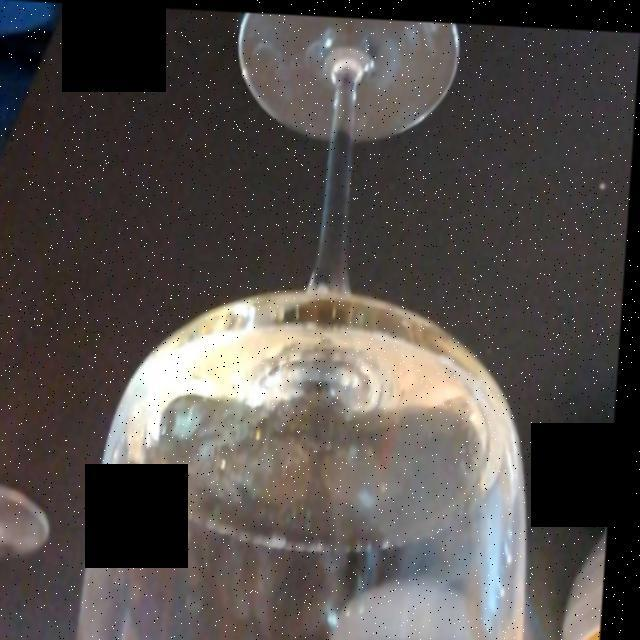wine: (135, 294, 530, 558)
